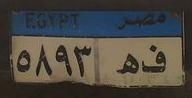3: (74, 45, 92, 77)
5: (17, 50, 32, 73)
8: (36, 42, 50, 77)
9: (55, 44, 70, 78)
faa: (141, 43, 167, 76)
haa: (116, 52, 140, 76)
